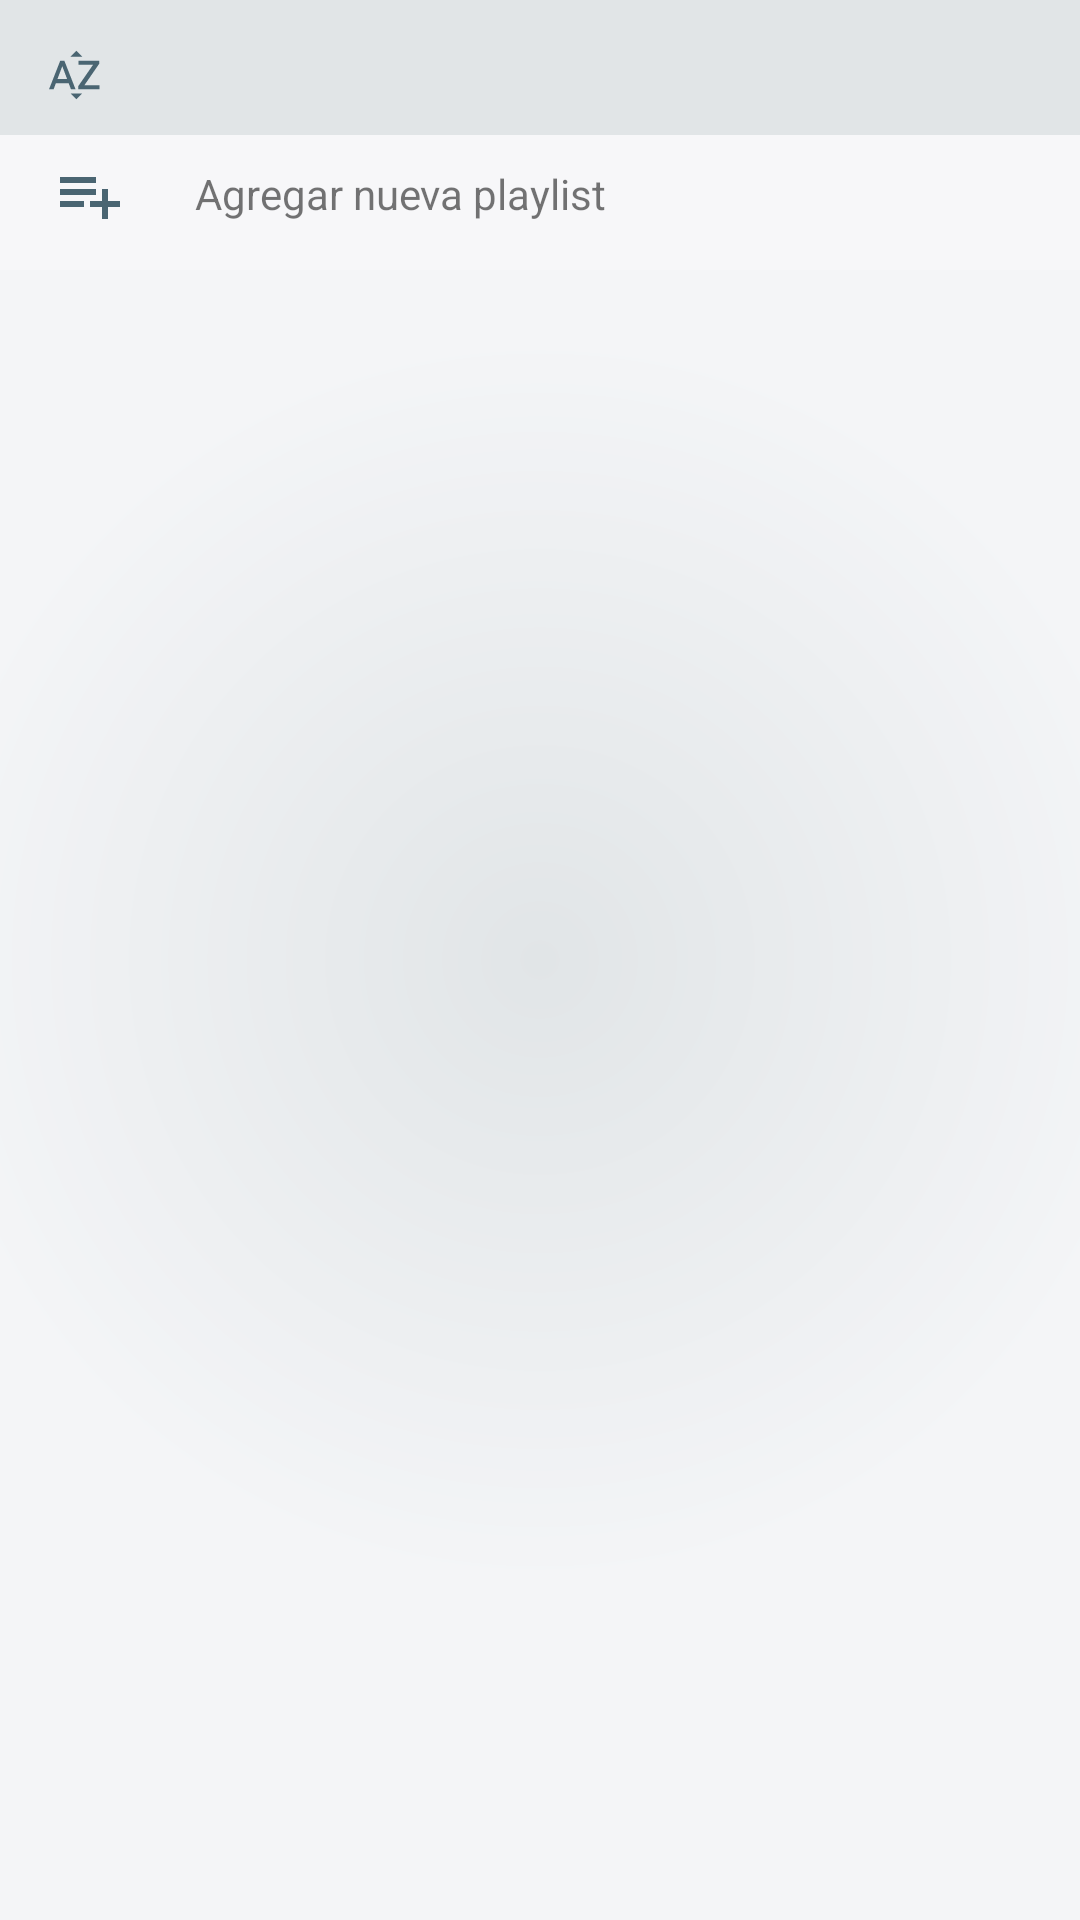

Point at icon controls on the screen. Image size 1080 x 1920, points as [x,y].
crearplaylist: [90,198]
ordenar: [74,75]
